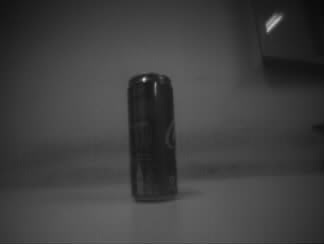Tin can: (126, 71, 178, 203)
